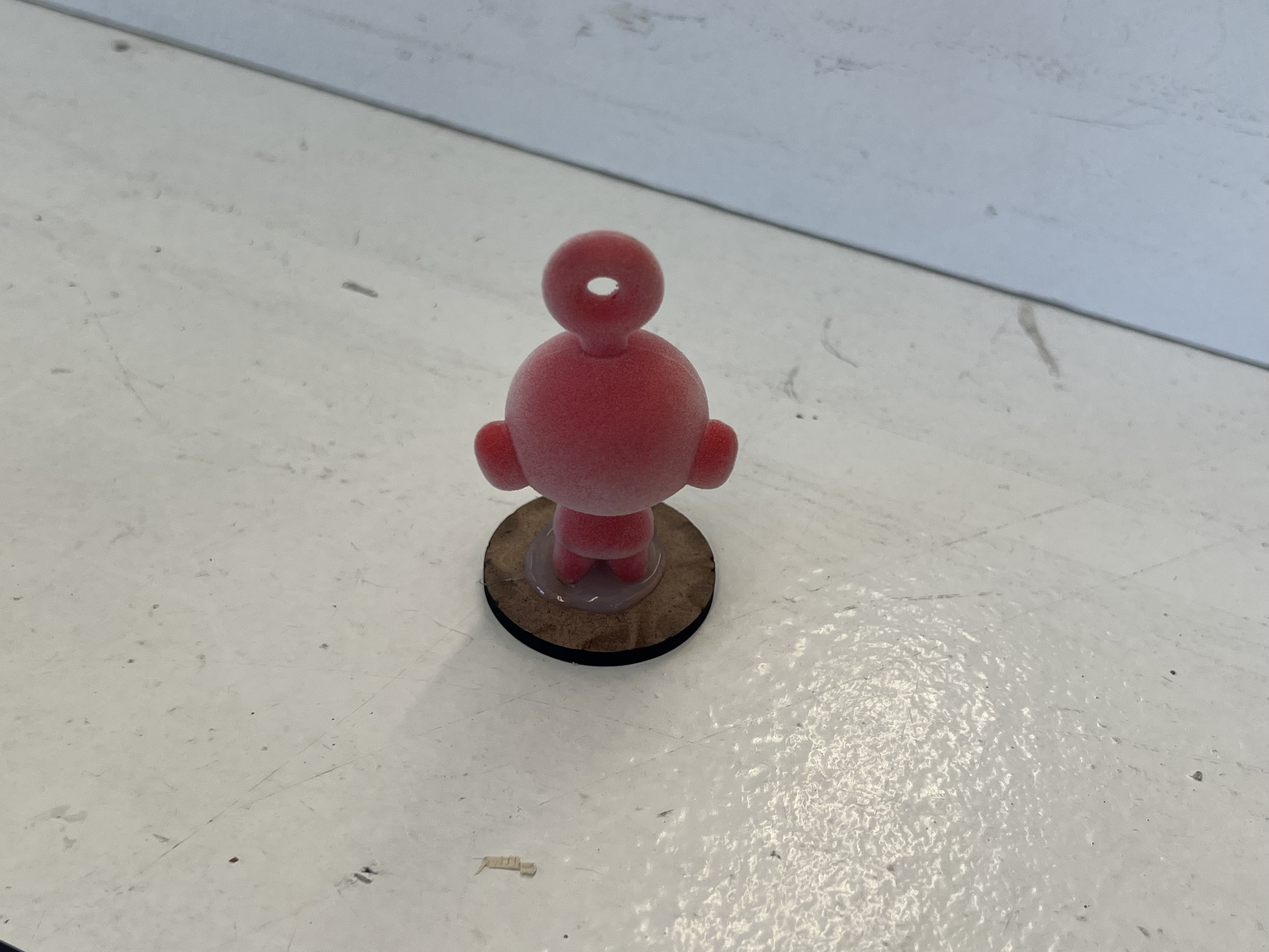teletubby: (475, 232, 737, 584)
